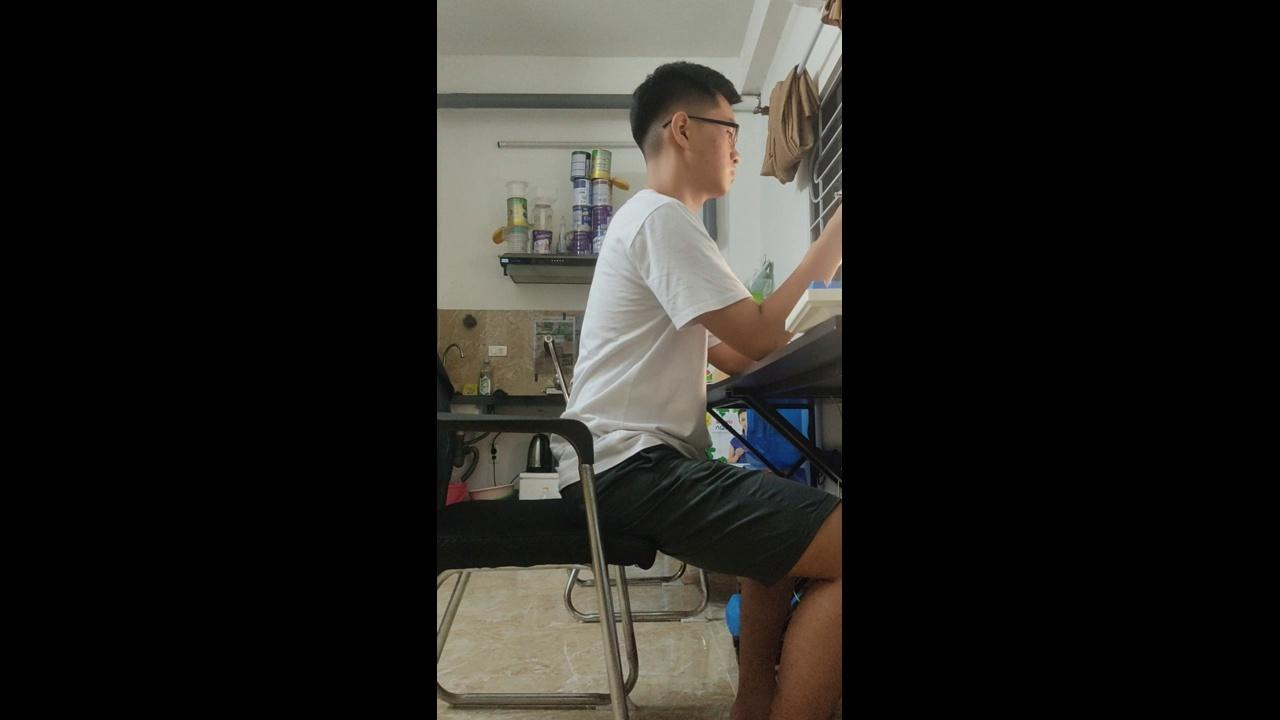GoodPosture: (567, 62, 847, 719), (564, 62, 759, 436)
